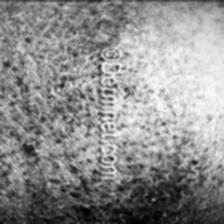Potentially Malignant Skin Tumors: (0, 0, 97, 224), (122, 64, 198, 222)
